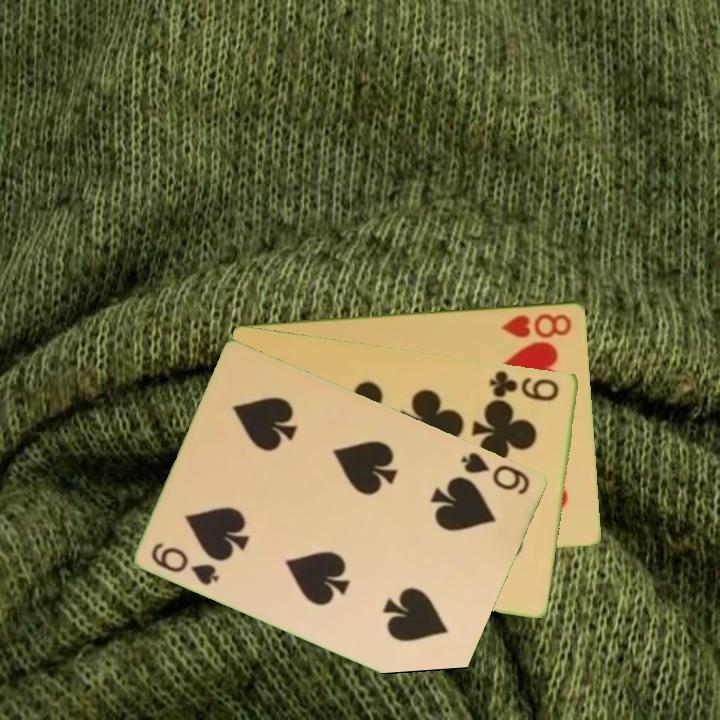6s: (458, 448, 534, 498), (148, 538, 224, 588)
8h: (498, 309, 575, 340)
9c: (486, 366, 563, 404)
